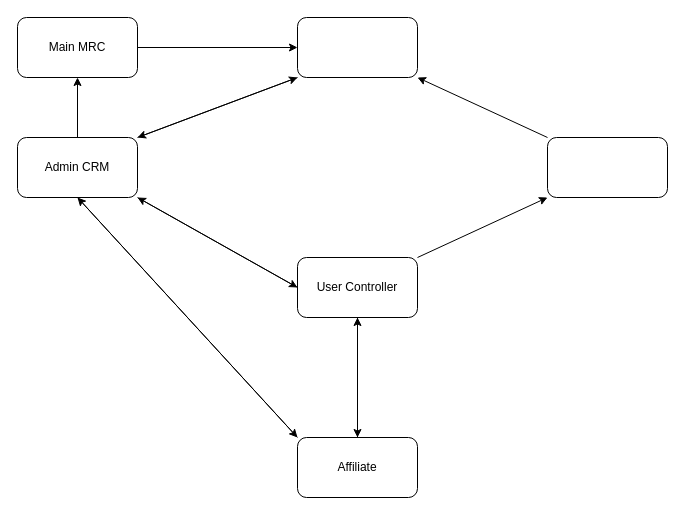
Some shapes in this 685 by 515 pixel diagram are drawn without their labels. The centre of each missing label's shape, as x and y in pixels:
"EA Shop" goes at pixel 357 47.
"Sale Page" goes at pixel 607 167.
